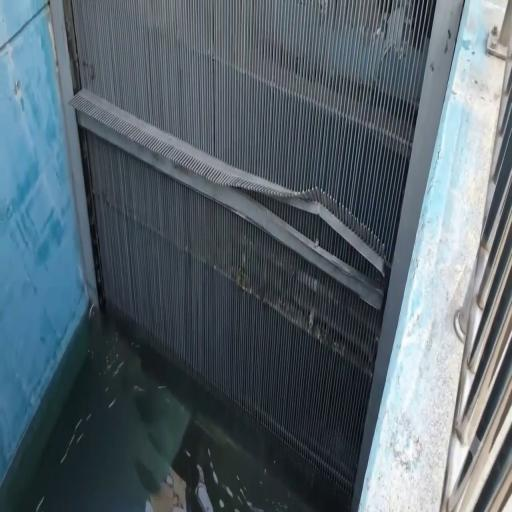rake_broken: (220, 173, 393, 284)
